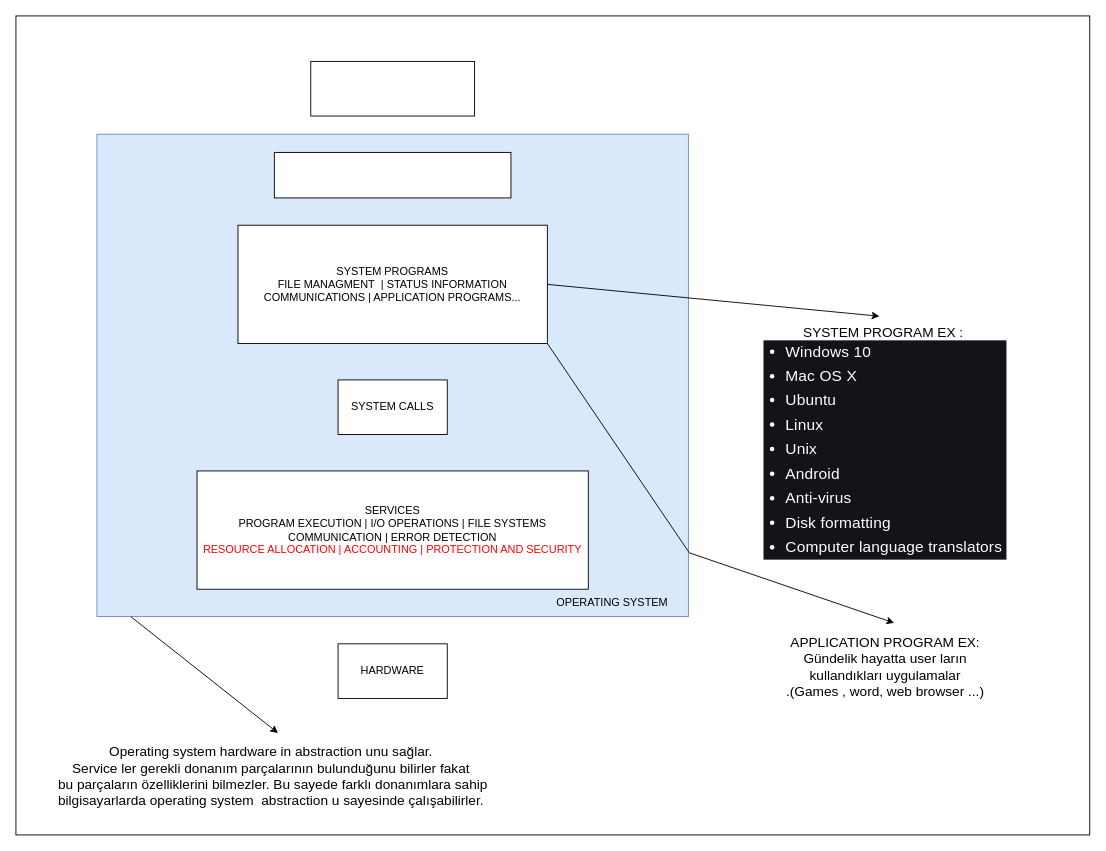
Image size: 1106x851. Some labels were removed from this diagram. Here are the shapes that lost their labels. From the top down, the centre of each, then its label:
At (392,88): "USER AND OTHER SYSTEM PROGRAMS".
At (392,175): "USER INTERFACES GUI | TOUCH SCREEN | COMMAND LINE".
